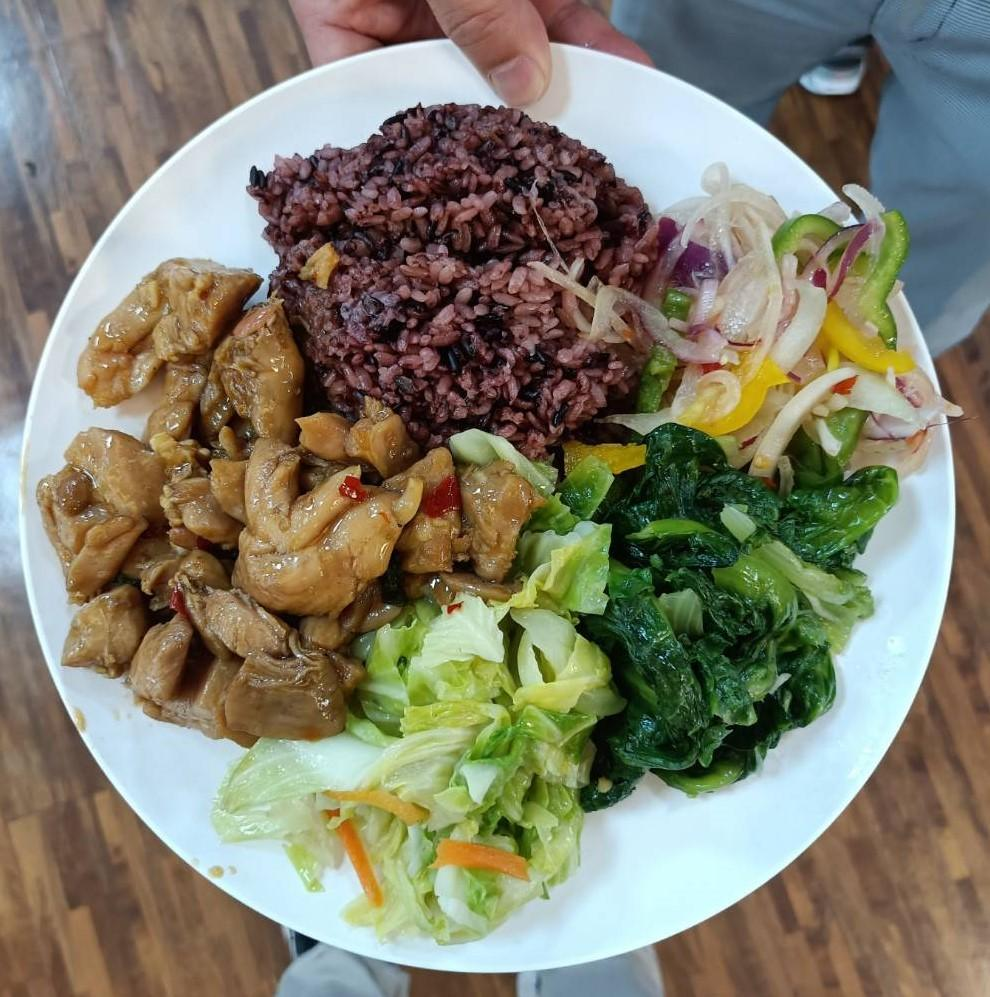big fried chicken leg: (15, 25, 976, 983)
braised fish: (280, 105, 664, 439)
braised fish fillet: (323, 561, 646, 932), (610, 443, 876, 811), (666, 181, 920, 483)
braised pork: (60, 329, 488, 684)
